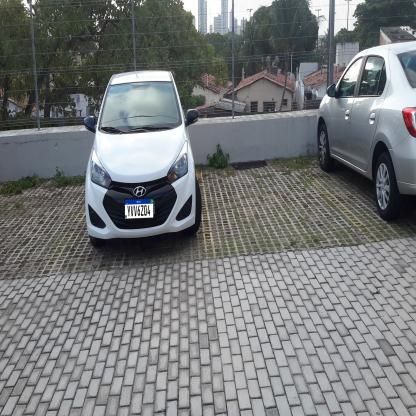PlacaM: (124, 198, 154, 220)
